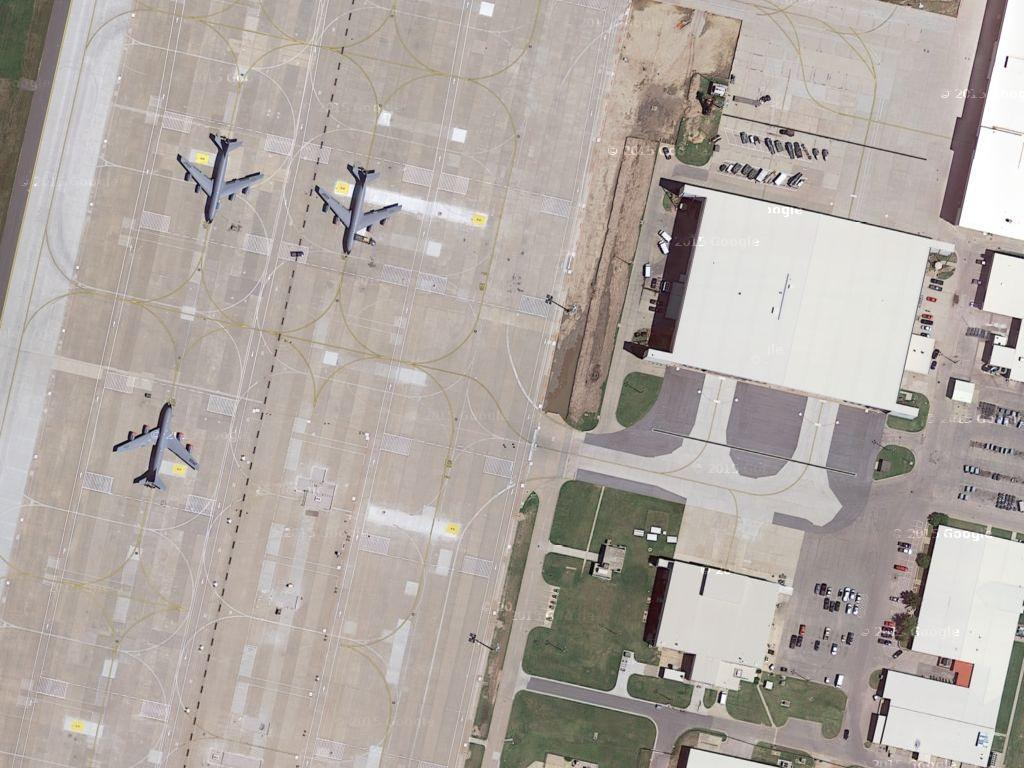KC-135: (311, 157, 406, 257), (108, 393, 203, 492), (172, 127, 268, 221)
